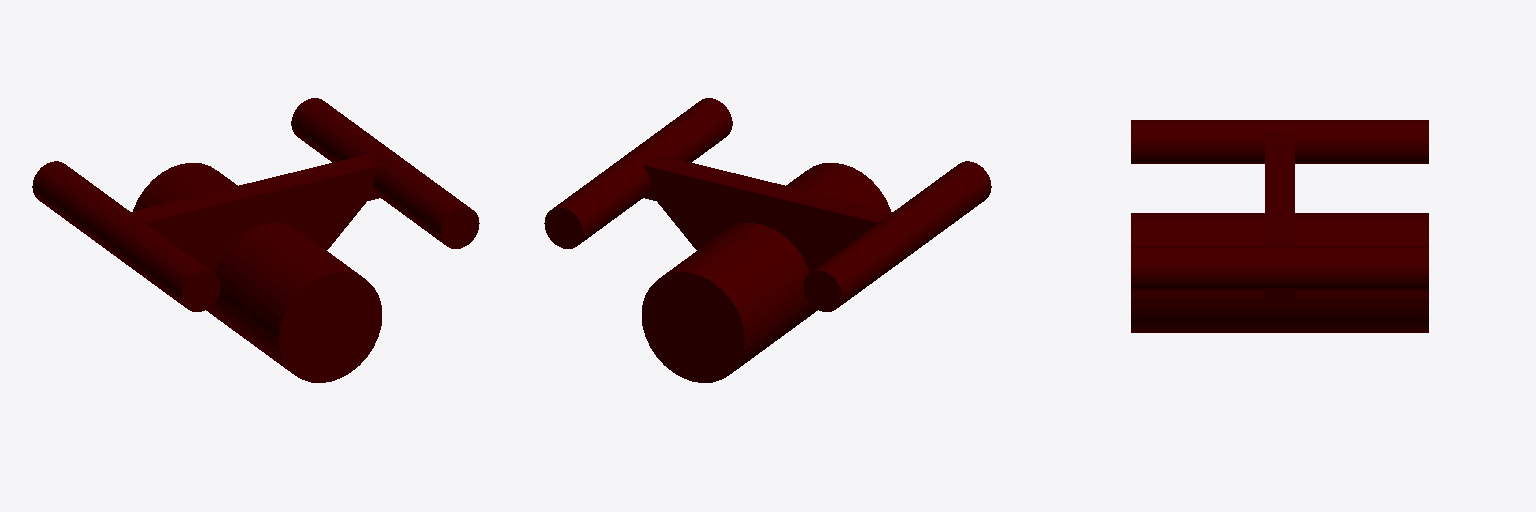
Rendered from vekoma.obj.
The picture shows the model from 3 angles: view 1: azimuth 30°, elevation 25°; view 2: azimuth 150°, elevation 25°; view 3: azimuth 270°, elevation 25°; orthographic projection.
Bounding box in the file's own units: 1.26 × 0.5775 × 1.1.